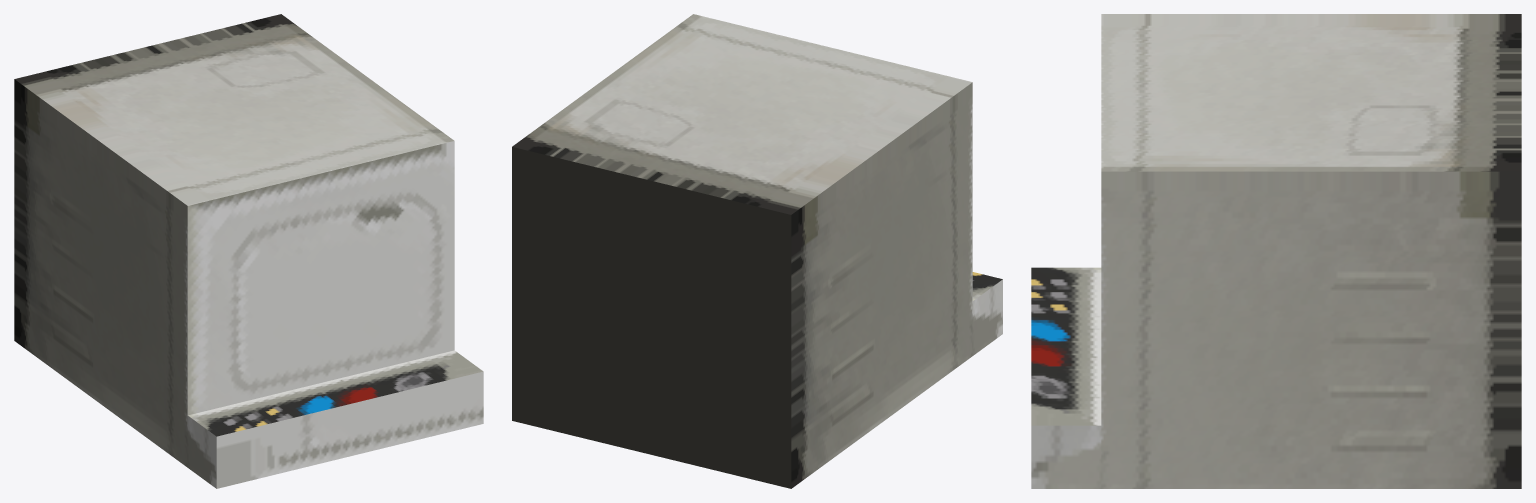
Rendered from pz_g016_white_washing_machine.obj.
3 views of the same model, side by side, from view 1: azimuth 30°, elevation 25°; view 2: azimuth 150°, elevation 25°; view 3: azimuth 270°, elevation 25° (orthographic). The views are drawn at different scales.
Parts seen in each view (by area): view 1: native_component_0_z+, native_component_0_x-, native_component_0_y+, native_component_1_z+, native_component_1_y+, native_component_1_x-; view 2: native_component_0_z-, native_component_0_x-, native_component_0_y+, native_component_1_x-; view 3: native_component_0_x+, native_component_0_y+, native_component_1_y+, native_component_1_x+.
Boxes of the visible parts, x1,y1,x2,y2 form: native_component_0_z+: [187, 141, 454, 415]; native_component_0_x-: [14, 79, 187, 467]; native_component_0_y+: [15, 14, 454, 205]; native_component_1_z+: [216, 371, 483, 488]; native_component_1_y+: [188, 350, 483, 436]; native_component_1_x-: [187, 416, 216, 488]; native_component_0_z-: [512, 147, 791, 488]; native_component_0_x-: [791, 82, 972, 488]; native_component_0_y+: [512, 14, 972, 214]; native_component_1_x-: [972, 279, 1002, 355]; native_component_0_x+: [1101, 171, 1521, 488]; native_component_0_y+: [1101, 14, 1521, 171]; native_component_1_y+: [1031, 267, 1101, 425]; native_component_1_x+: [1031, 425, 1101, 488].
Bounding box in the file's own units: 0.8 × 0.75 × 1.05.
1 material, 1 textured.
